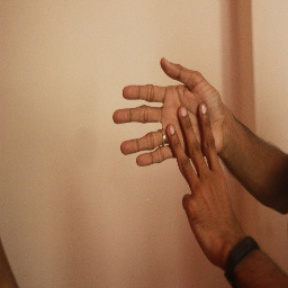M: (110, 56, 229, 200)
